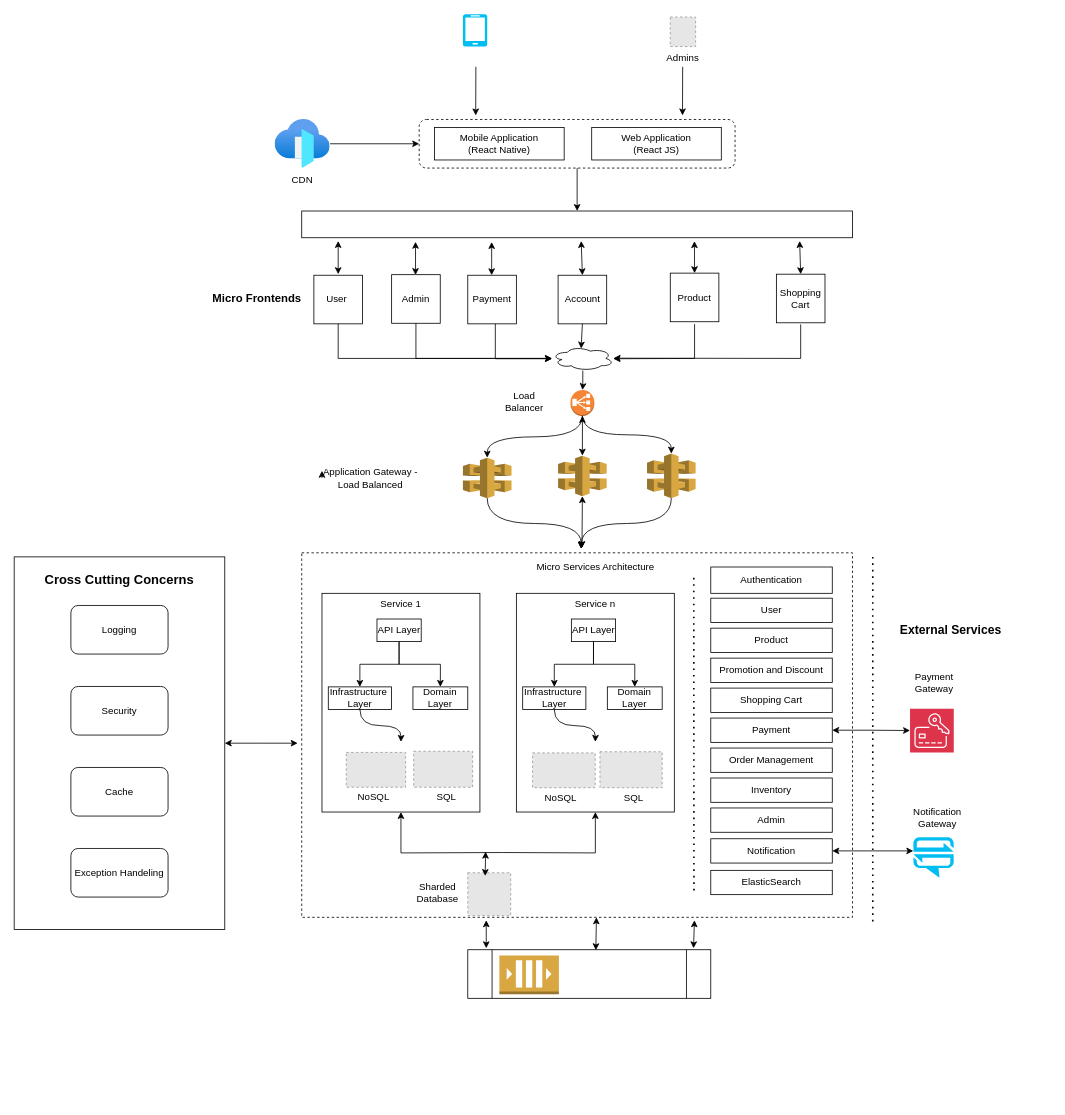
The diagram is 1065 pixels wide and 1115 high, and some of its shapes have lost their labels. Grey dashed boxes stand in for pictures. Each missing label, with the box of its shape:
Customers: (463, 14, 487, 46)
https: (551, 345, 614, 371)
Messaging Queue: (467, 949, 711, 998)
UI Stiching Layer: (301, 210, 853, 238)
